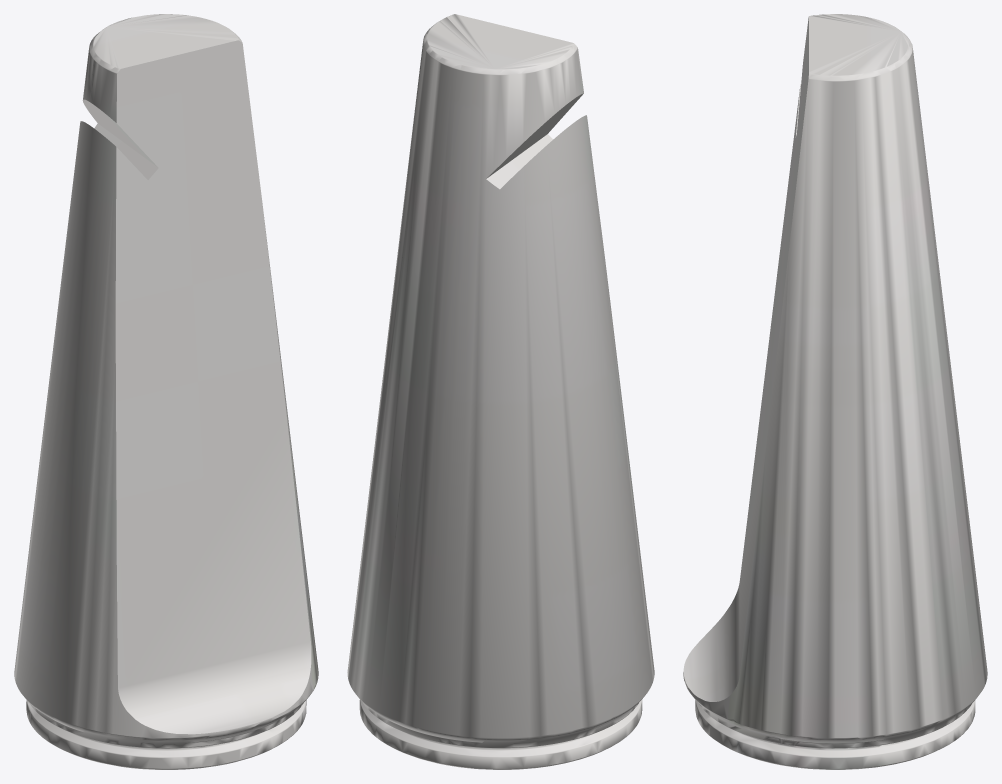
The model's file is 03_strelec_bila.glb.
3 renders of one model, left to right at view 1: azimuth 30°, elevation 25°; view 2: azimuth 150°, elevation 25°; view 3: azimuth 270°, elevation 25°, orthographic.
Visible parts, largest first — view 1: 03_strelec_bila; view 2: 03_strelec_bila; view 3: 03_strelec_bila.
Part boxes in pixels (x1=…): 03_strelec_bila: x1=14, y1=14, x2=318, y2=769; 03_strelec_bila: x1=347, y1=14, x2=654, y2=769; 03_strelec_bila: x1=683, y1=14, x2=987, y2=769.
Size of the model in its own units: 0.0332 by 0.0803 by 0.0332.
Materials: 1 (1 with a texture image).
